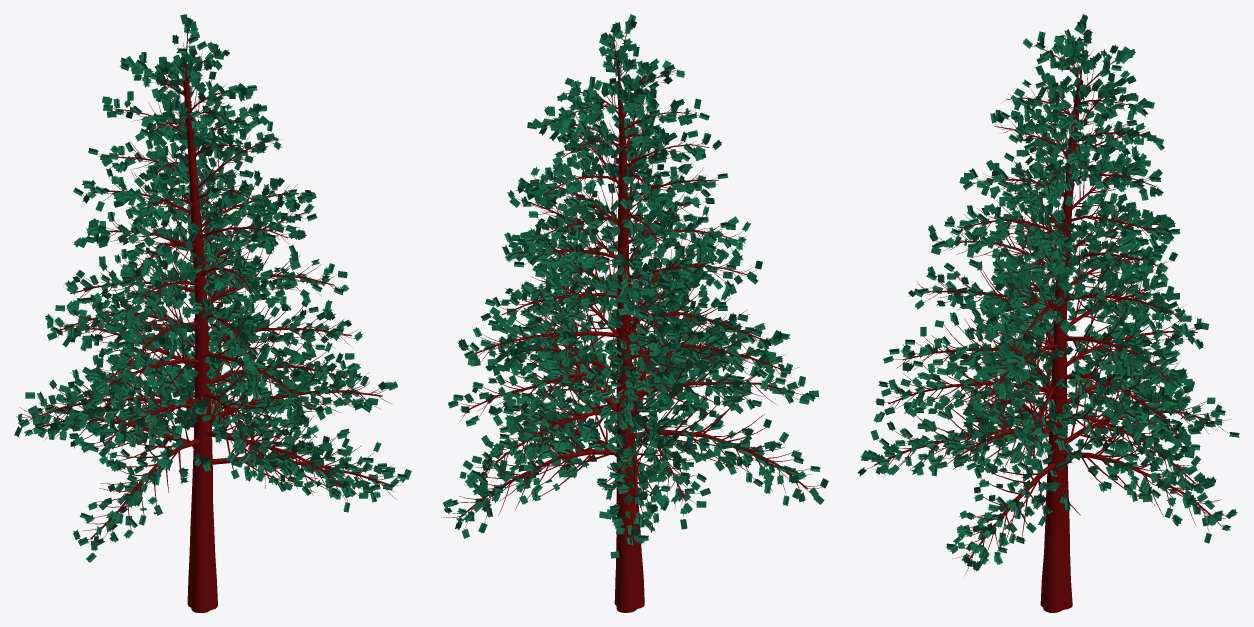
Rendered from Arbol1.fbx.
The picture shows the model from 3 angles, left to right: view 1: azimuth 30°, elevation 25°; view 2: azimuth 150°, elevation 25°; view 3: azimuth 270°, elevation 25°; orthographic projection. The views are drawn at different scales.
Parts seen in each view (by area): view 1: Árbol1; view 2: Árbol1; view 3: Árbol1.
Part boxes in pixels (x1,y1,x2,y2): Árbol1: (14,14,411,612); Árbol1: (441,14,828,612); Árbol1: (857,14,1239,612).
Size of the model in its own units: 333 by 565 by 332.
